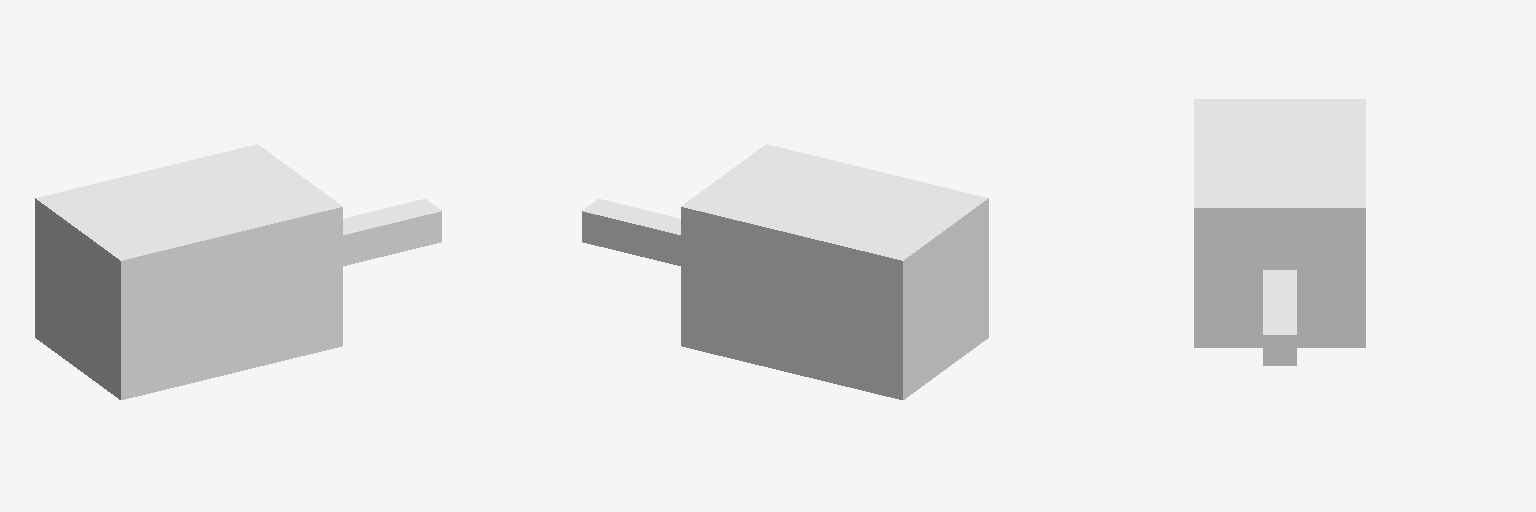
Rendered from lv2_turret.obj.
3 renders of one model, left to right at view 1: azimuth 30°, elevation 25°; view 2: azimuth 150°, elevation 25°; view 3: azimuth 270°, elevation 25°, orthographic.
Visible parts, largest first — view 1: object 1; view 2: object 1; view 3: object 1.
Part boxes in pixels (bbox=[...]): object 1: bbox=[35, 144, 441, 399]; object 1: bbox=[582, 144, 988, 399]; object 1: bbox=[1194, 99, 1365, 365].
Bounding box in the file's own units: 2.4 × 0.9 × 1.